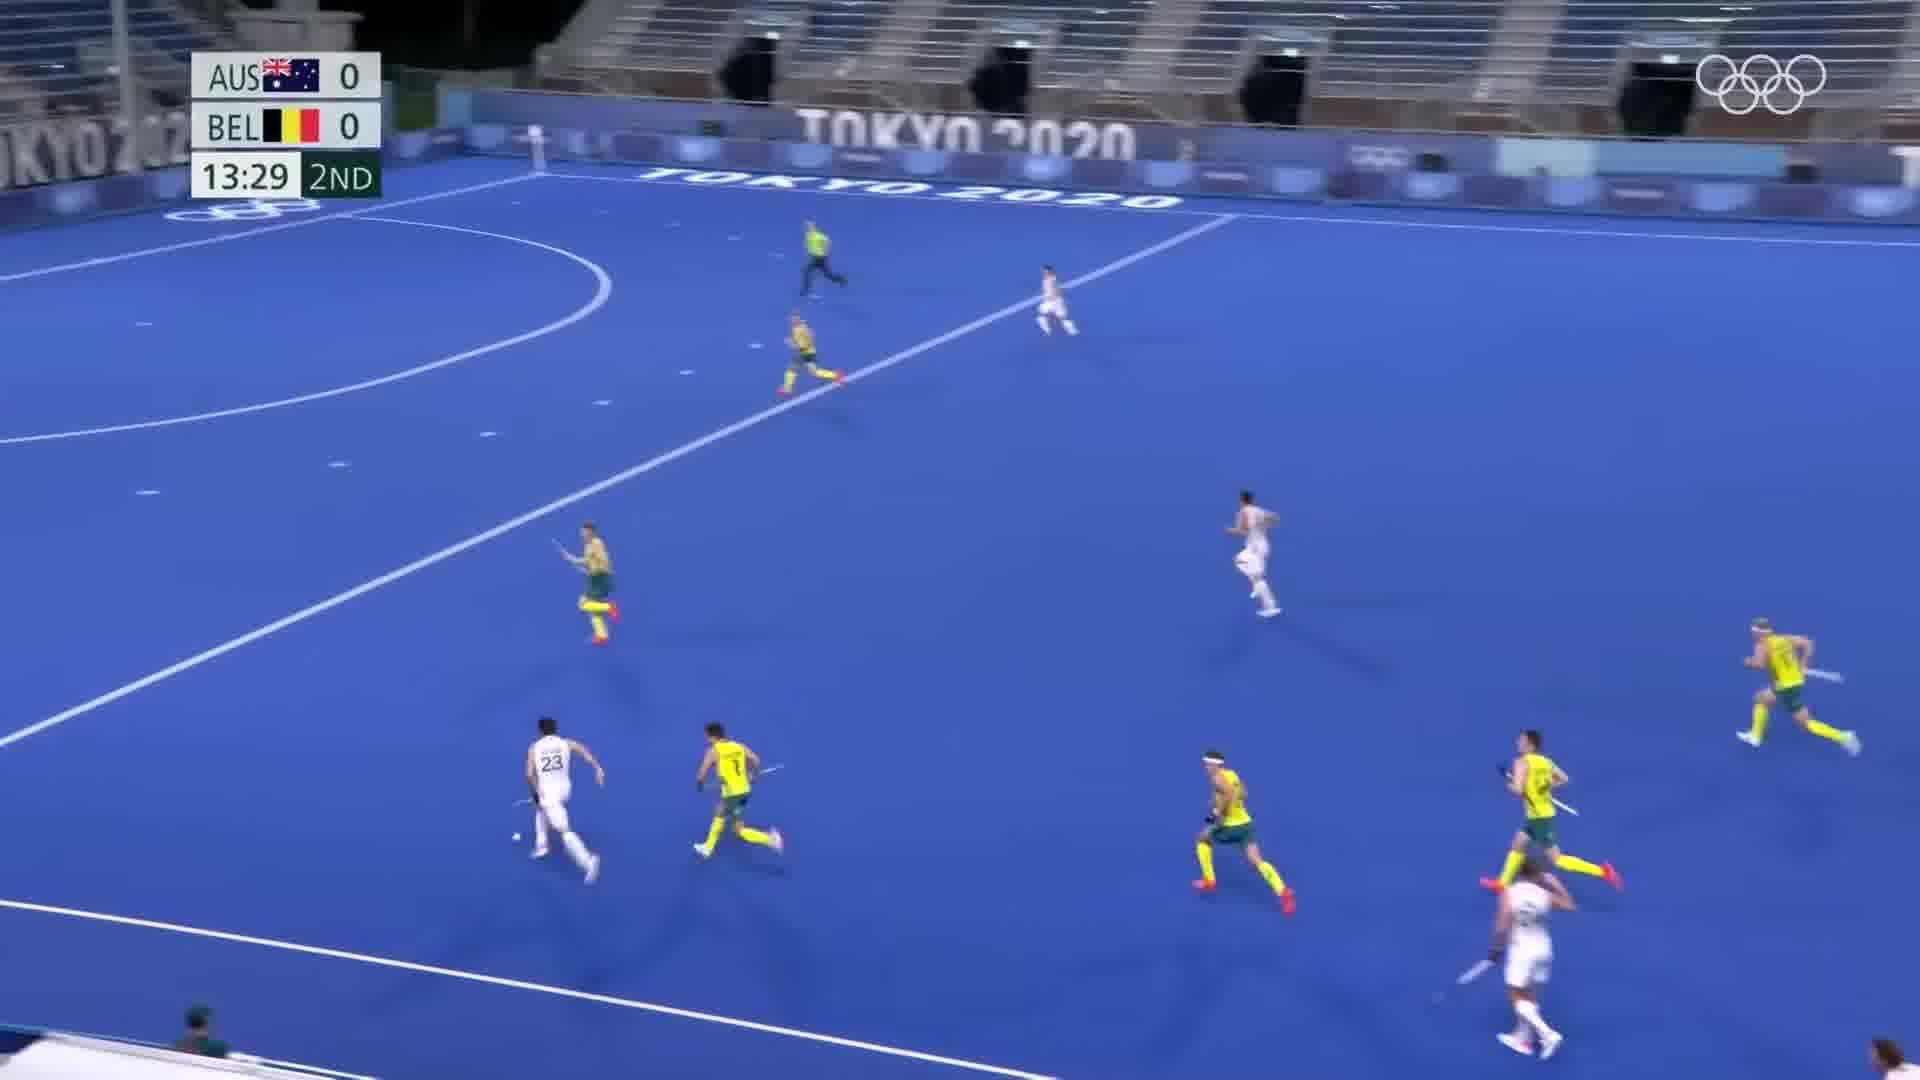ball: (504, 827, 531, 851)
